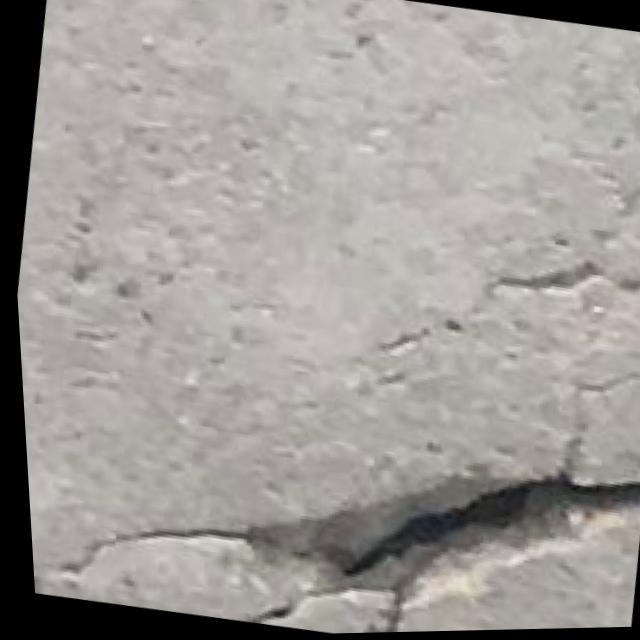Crack: (17, 363, 640, 640), (358, 203, 640, 422)
